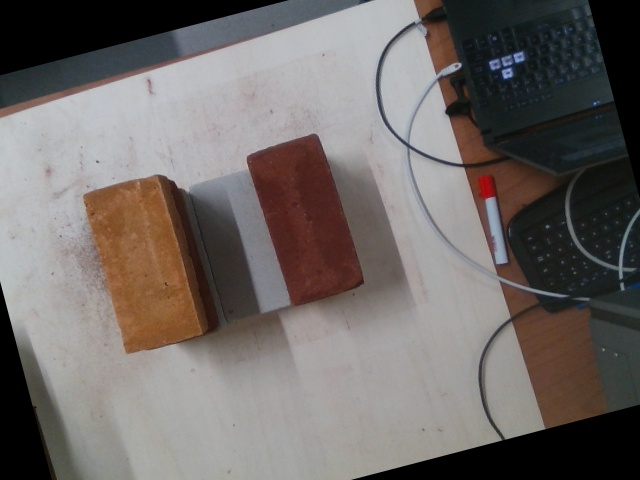brick: (245, 134, 366, 304), (84, 177, 199, 355), (186, 169, 290, 324)
